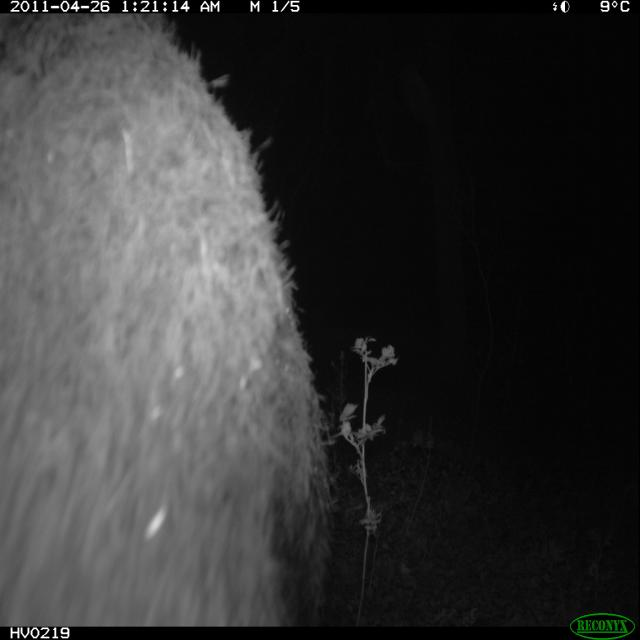boar: (0, 18, 324, 624)
